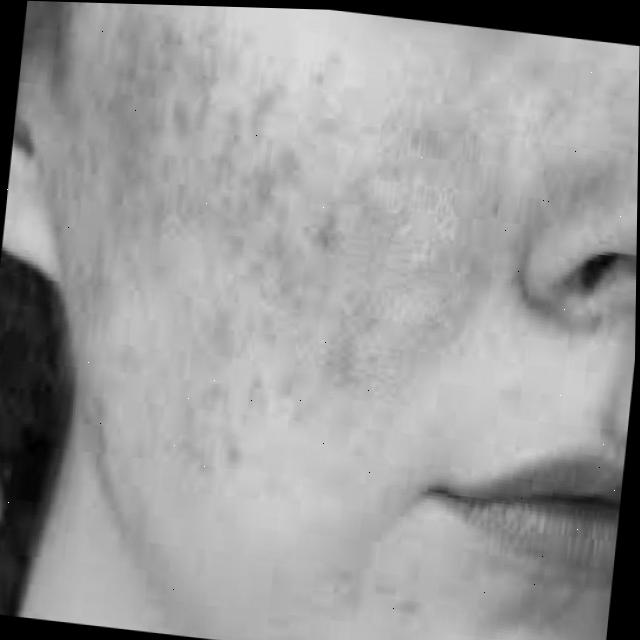Rosacea: (59, 41, 503, 421)
